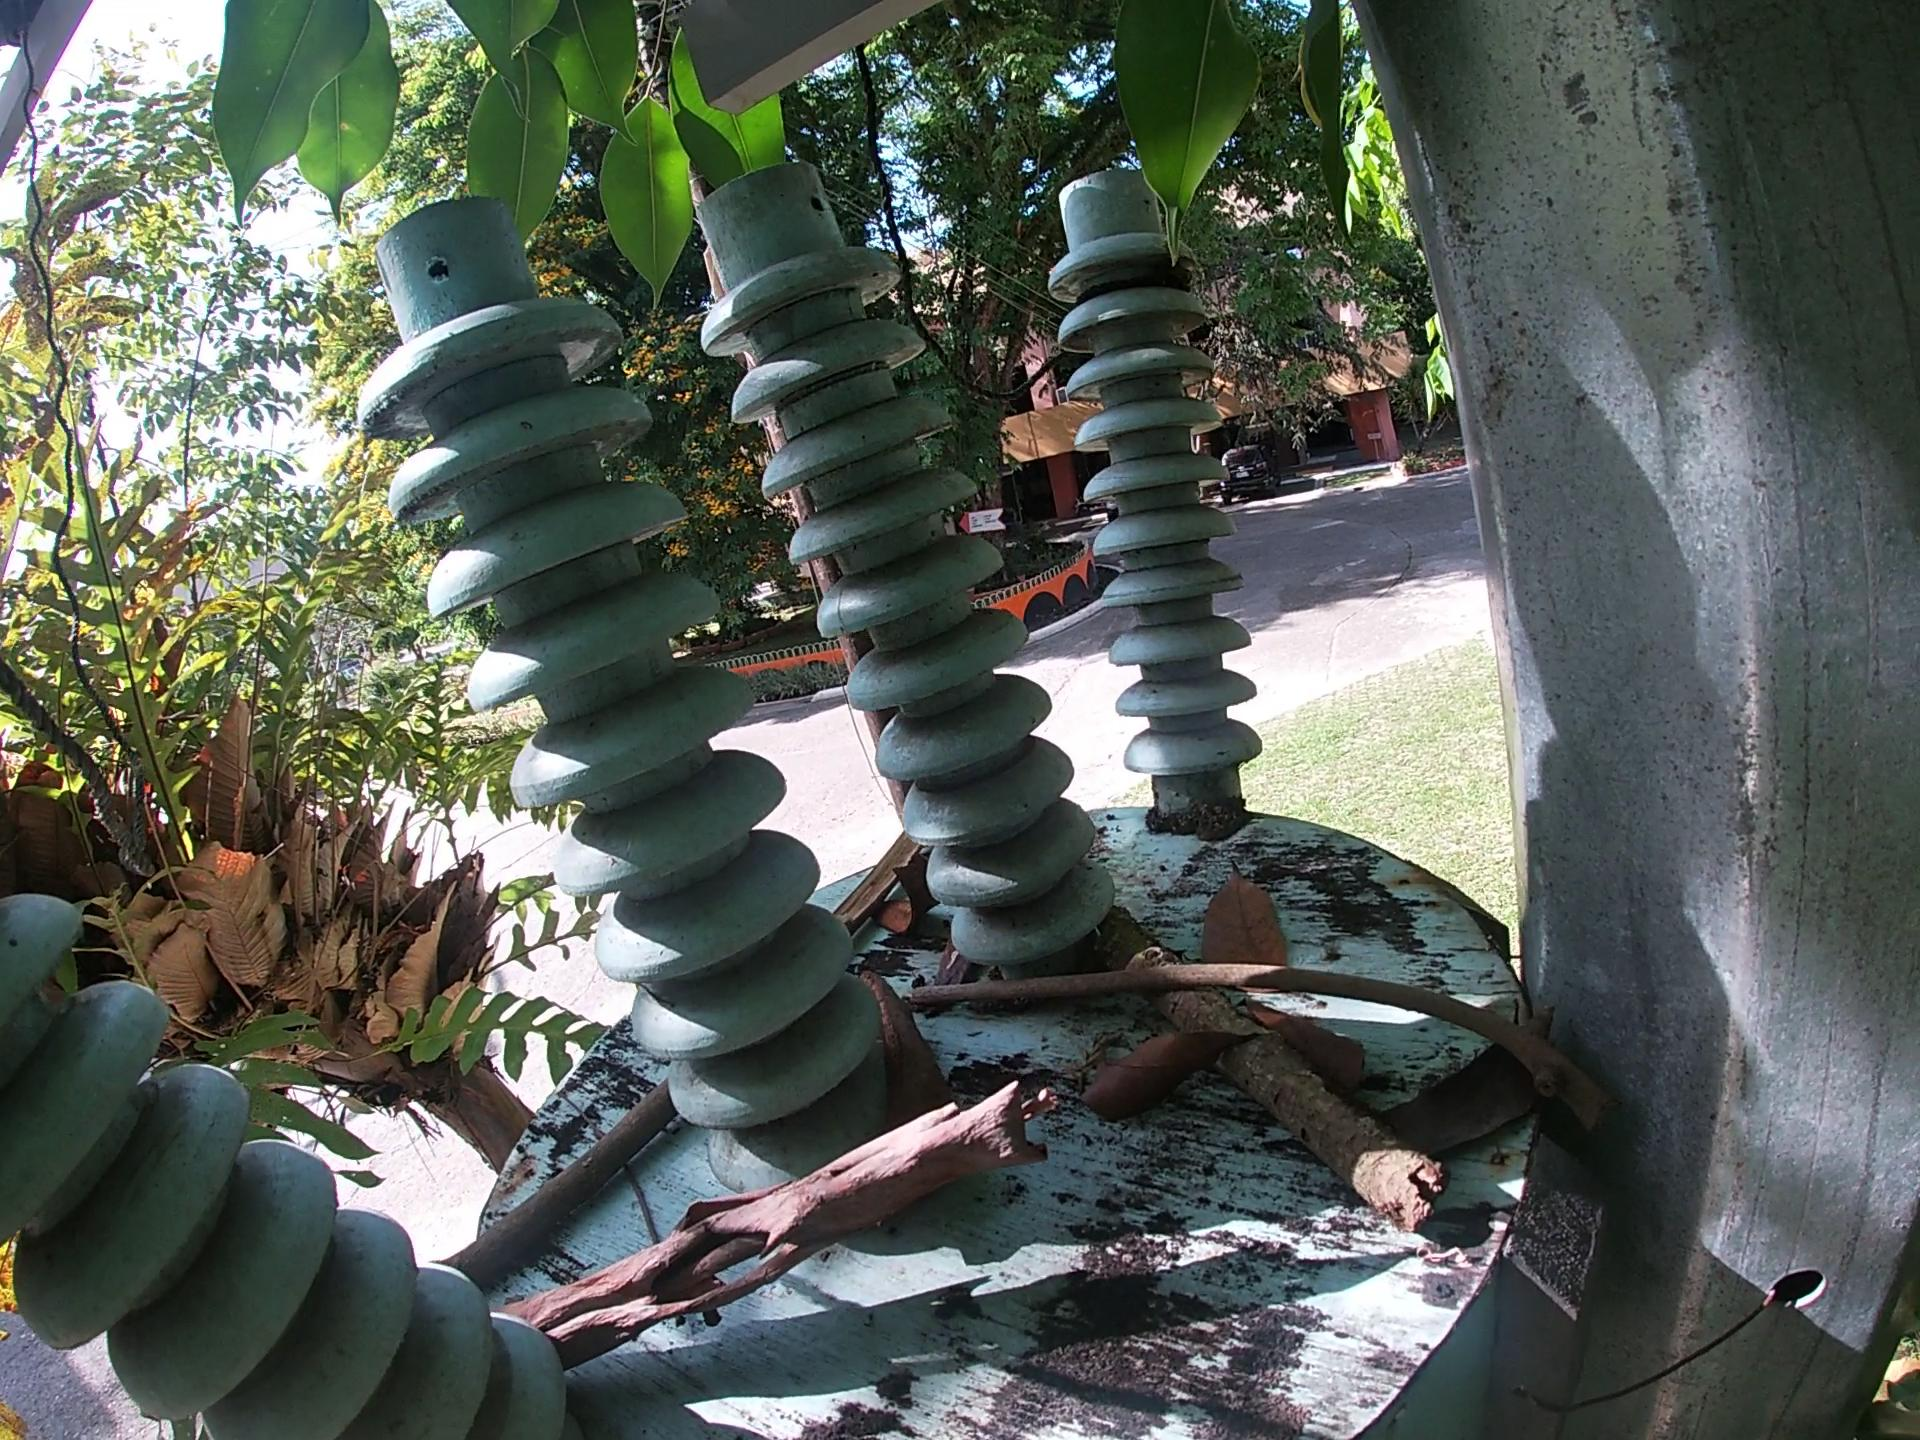leaf: (1376, 1004, 1566, 1147), (1070, 1023, 1259, 1141), (1197, 853, 1314, 1007), (1240, 995, 1377, 1103)
mahogany fruit: (853, 959, 951, 1150), (866, 846, 943, 942)
tree branch: (485, 1059, 1073, 1370), (890, 948, 1625, 1141), (1098, 905, 1451, 1239), (420, 1068, 692, 1293), (835, 827, 921, 936)
